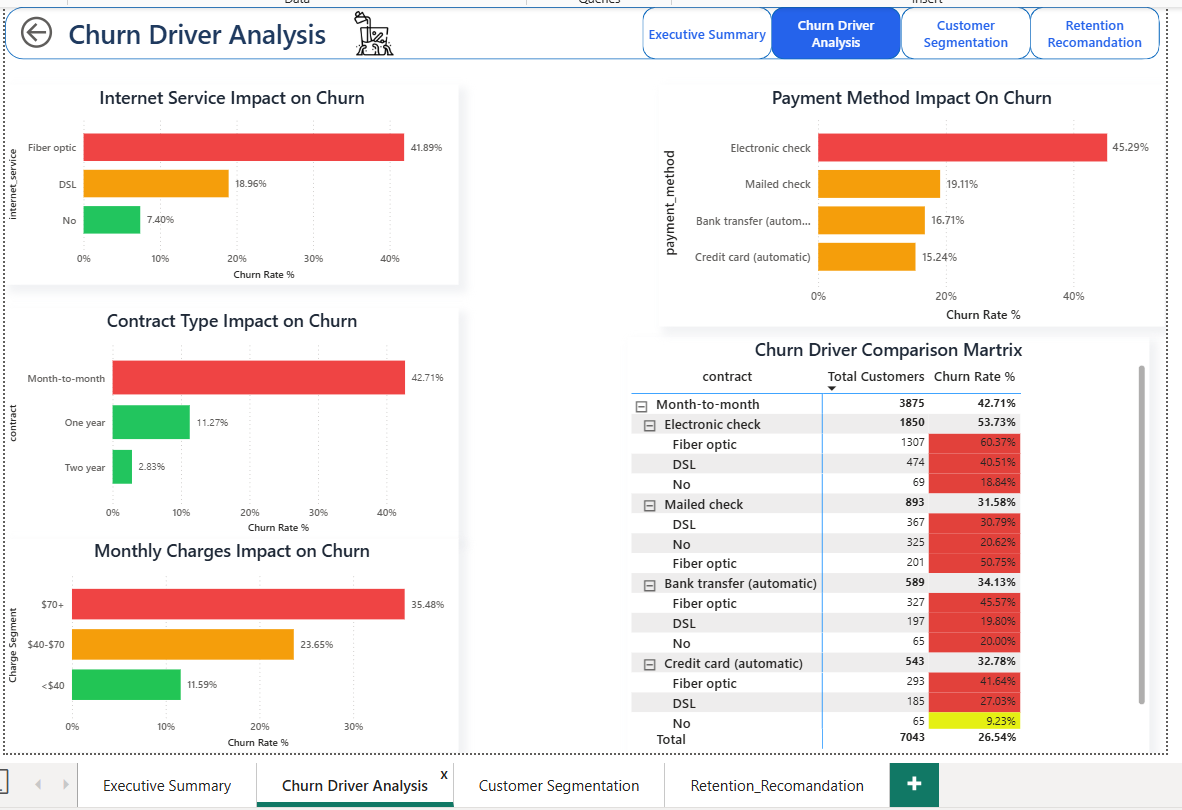

The page's visual inventory and layout, read from the dashboard file:
{"tool":"powerbi","page":{"name":"Churn Driver Analysis","canvas":[1400,900],"ordinal":1},"visuals":[{"type":"shape","box":[0,0,1393.4,63.1],"z":0},{"type":"pivotTable","title":"Churn Driver Comparison Martrix","fields":{"Rows":["dim_contract.contract","dim_contract.payment_method","dim_service.internet_service"],"Values":["Measures Table.Total Customers","Measures Table.Churn Rate %"]},"box":[751.1,397.7,629.6,501.8],"z":1000},{"type":"clusteredBarChart","title":"Contract Type Impact on Churn","fields":{"Category":["dim_contract.contract"],"Y":["Measures Table.Churn Rate %"]},"box":[0,362.9,547.6,277.7],"z":2000},{"type":"card","title":"Total Customers Churned","fields":{"Values":["Measures Table.Total Customers"]},"box":[394.5,760.6,138.9,75.7],"z":3000},{"type":"actionButton","box":[14.2,6.3,64.7,48.9],"z":4000},{"type":"clusteredBarChart","title":"Payment Method Impact On Churn","fields":{"Category":["dim_contract.payment_method"],"Y":["Measures Table.Churn Rate %"]},"box":[789,93.1,610.7,291.9],"z":5000},{"type":"clusteredBarChart","title":"Internet Service Impact on Churn","fields":{"Category":["dim_service.internet_service"],"Y":["Measures Table.Churn Rate %"]},"box":[0,93.1,547.6,241.4],"z":6000},{"type":"clusteredBarChart","title":"Monthly Charges Impact on Churn","fields":{"Category":["fact_churn.Charge Segment"],"Y":["Measures Table.Churn Rate %"]},"box":[0,640.7,547.6,258.8],"z":7000},{"type":"shape","box":[1237.2,0,156.2,63.1],"z":8000},{"type":"shape","box":[1080.9,0,156.2,63.1],"z":9000},{"type":"shape","box":[924.7,0,156.2,63.1],"z":10000},{"type":"shape","box":[768.5,0,156.2,63.1],"z":11000},{"type":"image","box":[394.5,0,99.4,63.1],"z":12000}]}

Visuals, with their boxes on the page's 1400x900 design canvas (x1, y1, x2, y2). These are canvas units, not pixel positions in the 1182x810 screenshot, which may show the page scaled, cropped or inside an application window:
shape: [x1=0, y1=0, x2=1393, y2=63]
"Churn Driver Comparison Martrix" pivotTable: [x1=751, y1=398, x2=1381, y2=900]
"Contract Type Impact on Churn" clusteredBarChart: [x1=0, y1=363, x2=548, y2=641]
"Total Customers Churned" card: [x1=394, y1=761, x2=533, y2=836]
actionButton: [x1=14, y1=6, x2=79, y2=55]
"Payment Method Impact On Churn" clusteredBarChart: [x1=789, y1=93, x2=1400, y2=385]
"Internet Service Impact on Churn" clusteredBarChart: [x1=0, y1=93, x2=548, y2=334]
"Monthly Charges Impact on Churn" clusteredBarChart: [x1=0, y1=641, x2=548, y2=900]
shape: [x1=1237, y1=0, x2=1393, y2=63]
shape: [x1=1081, y1=0, x2=1237, y2=63]
shape: [x1=925, y1=0, x2=1081, y2=63]
shape: [x1=768, y1=0, x2=925, y2=63]
image: [x1=394, y1=0, x2=494, y2=63]
